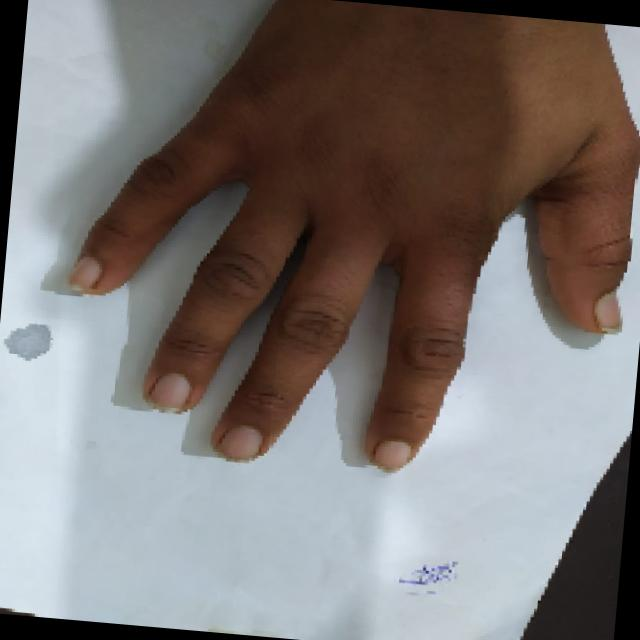Nail: (146, 372, 190, 411), (215, 426, 259, 460), (370, 440, 410, 470), (593, 291, 621, 332), (69, 256, 99, 291)
